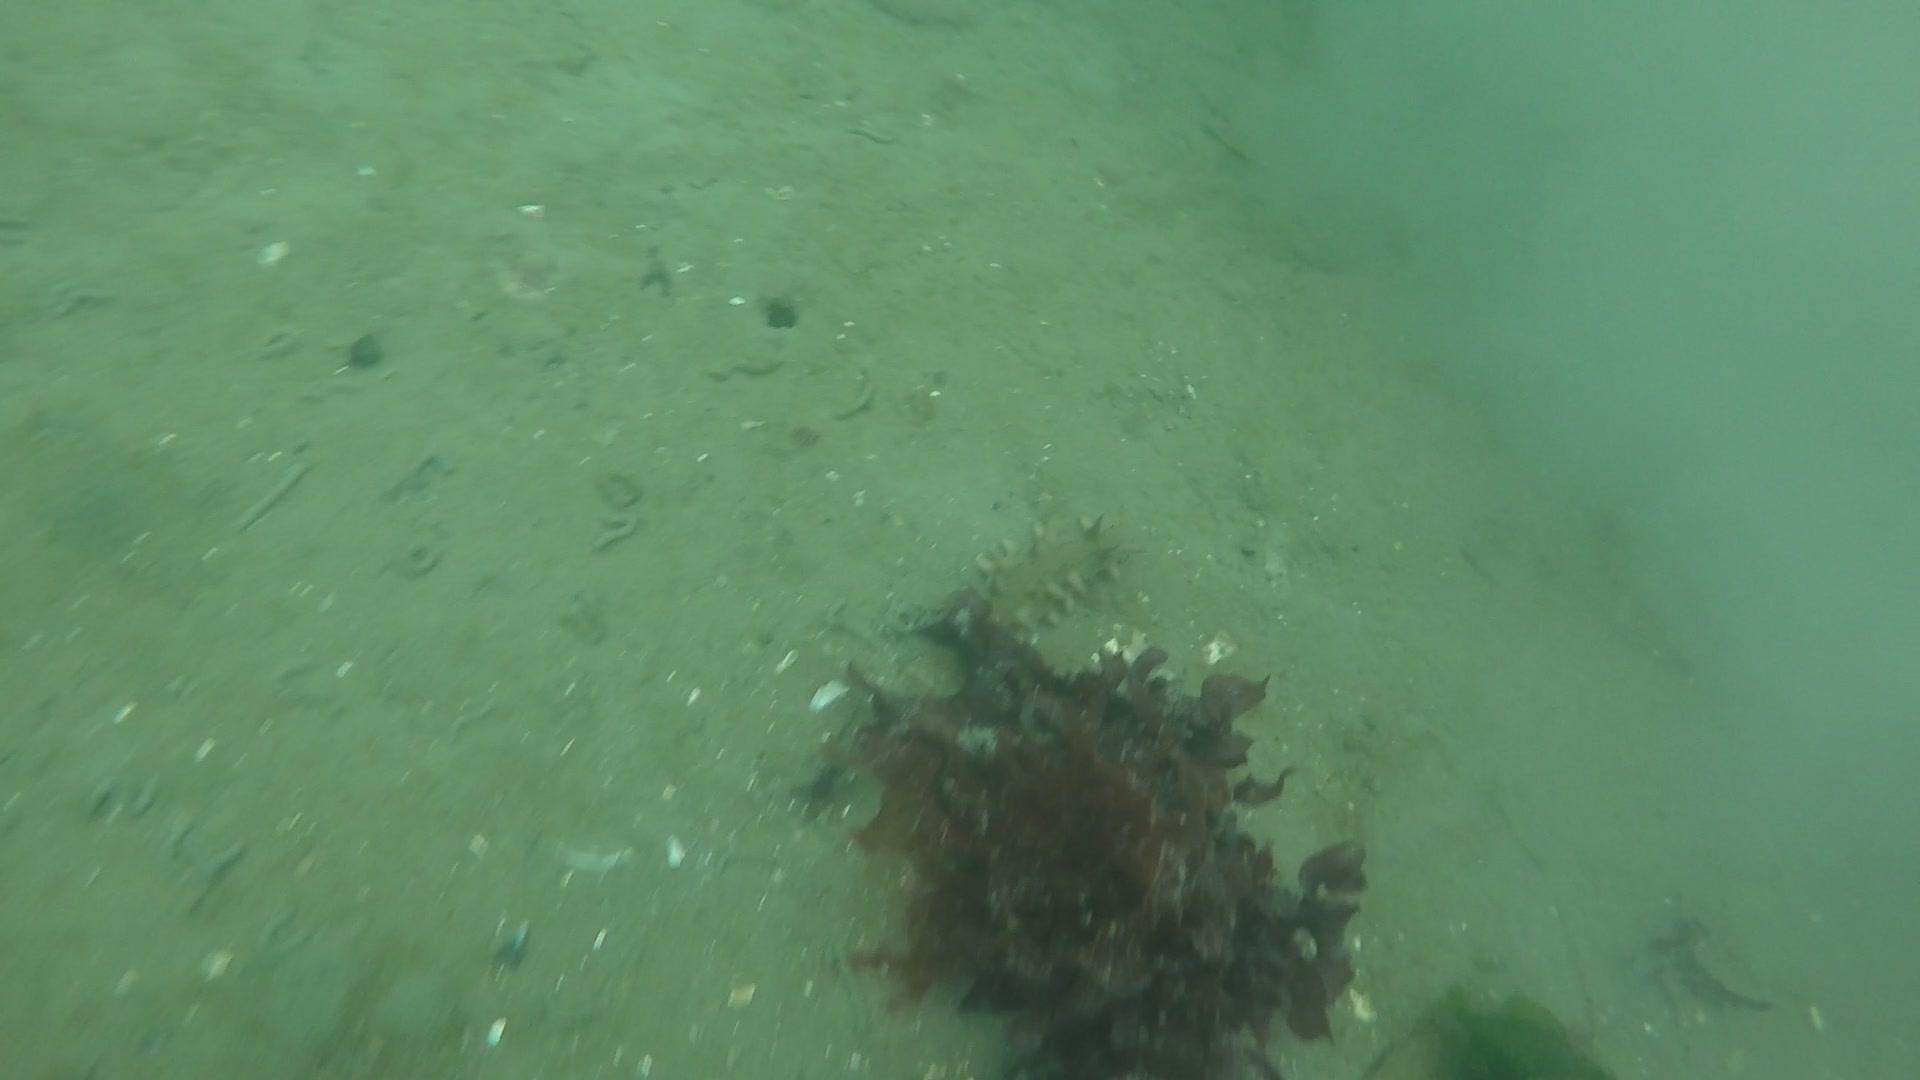holothurian: (967, 505, 1150, 651)
